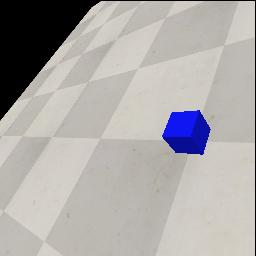box: (162, 110, 211, 155)
